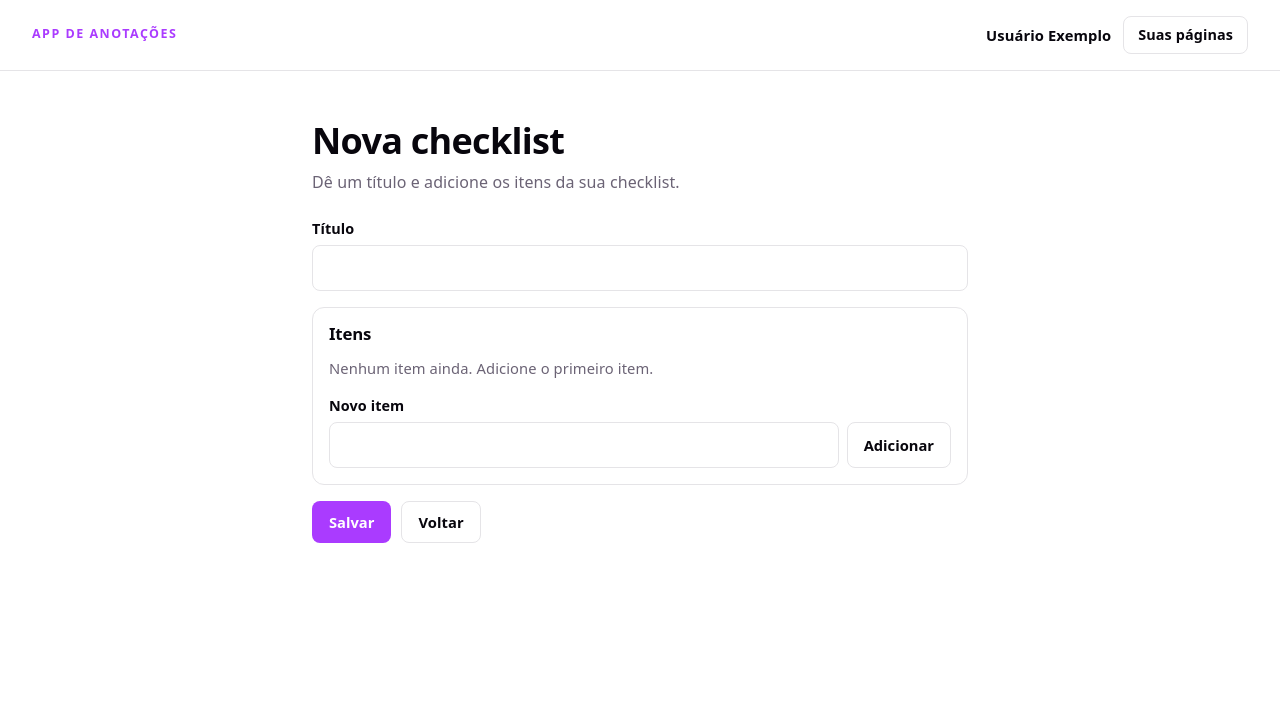
it: Checklists com itens editáveis › cria uma checklist válida com POST e abre a checklist salva
Type "Viagem" into the field labelled "Título" at (640, 268), box [312,245,968,291]
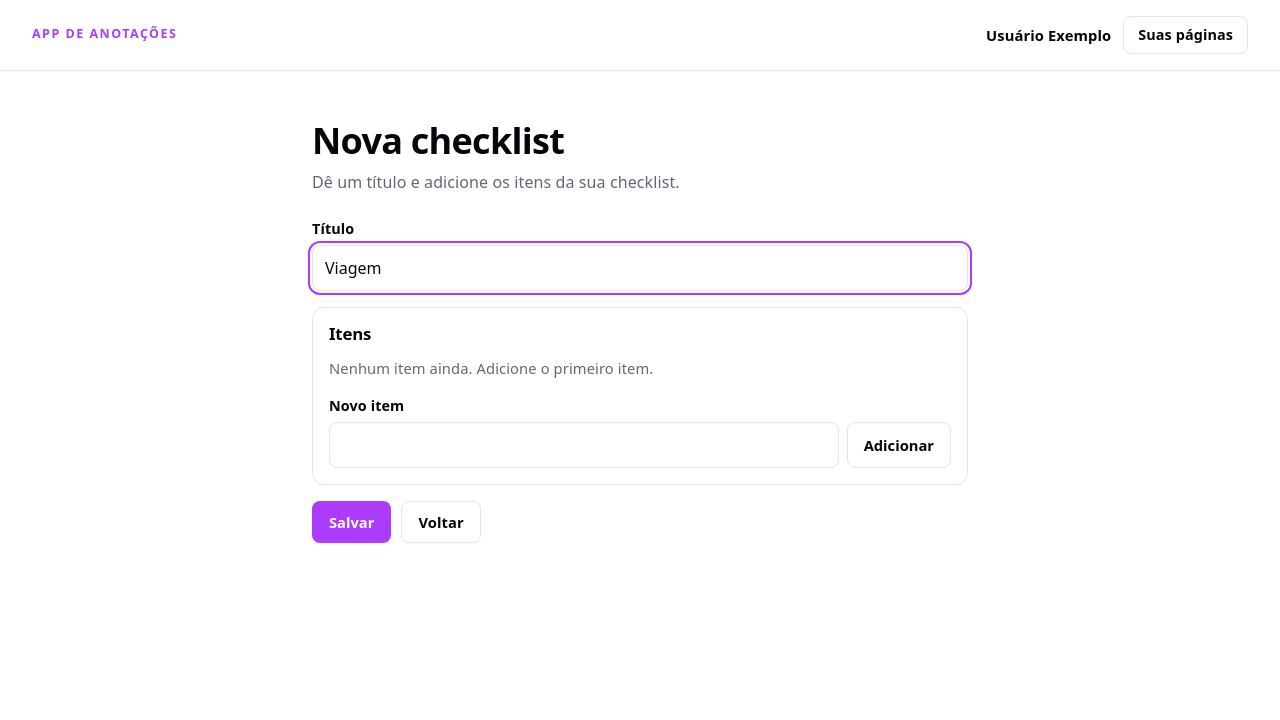
Type "Passaporte" into the field labelled "Novo item" at (584, 445), box [329,422,839,468]
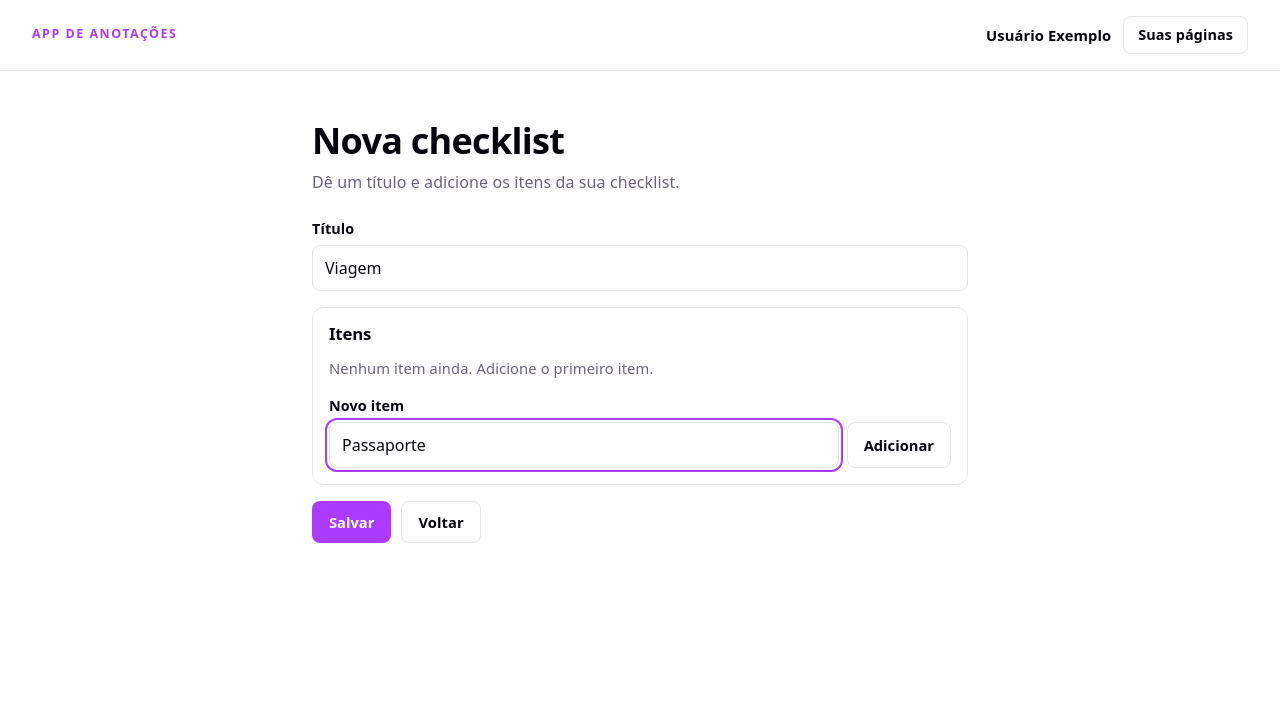
Click the button "Adicionar" at (899, 445), box [847,422,951,468]
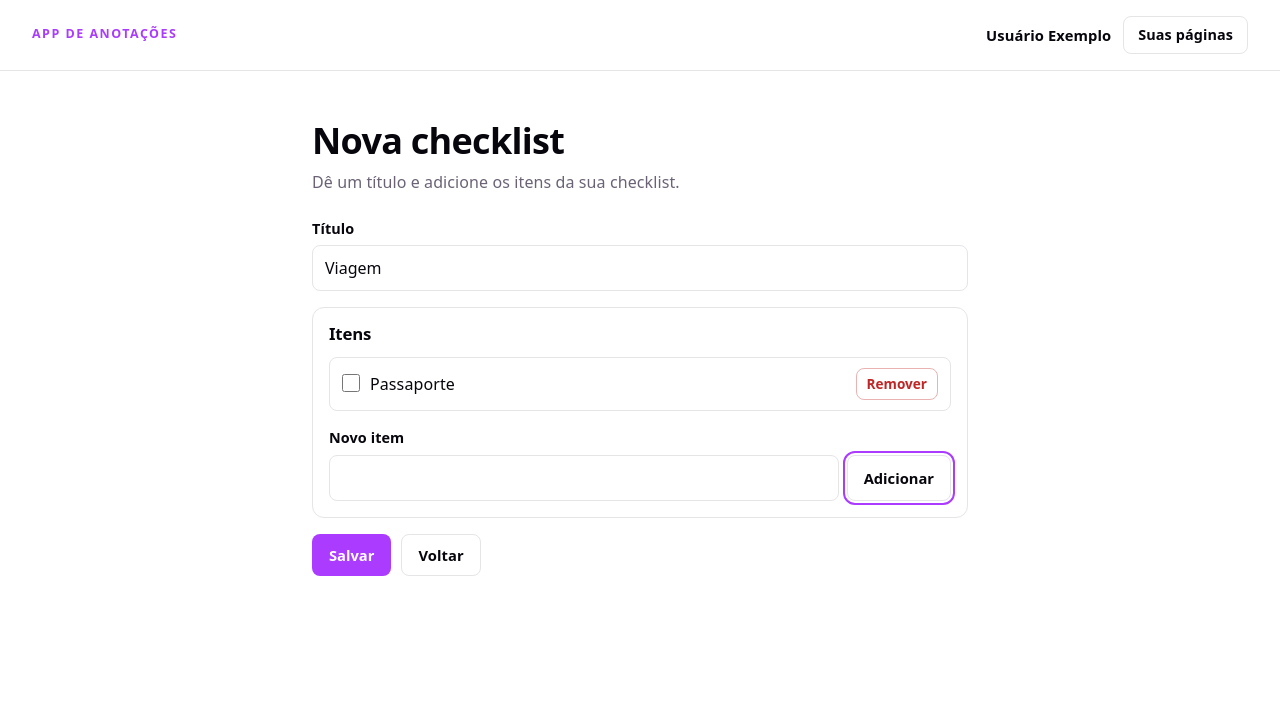
Type "Hotel" into the field labelled "Novo item" at (584, 478), box [329,455,839,501]
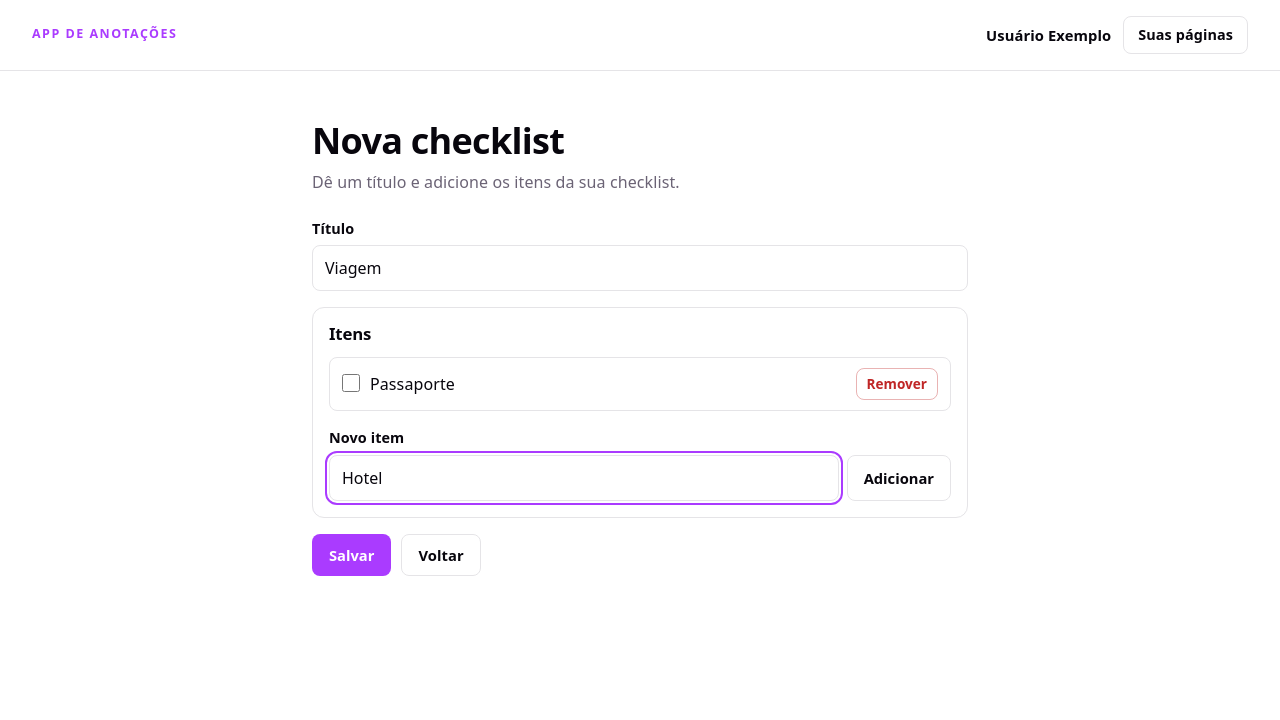
Click the button "Adicionar" at (899, 478), box [847,455,951,501]
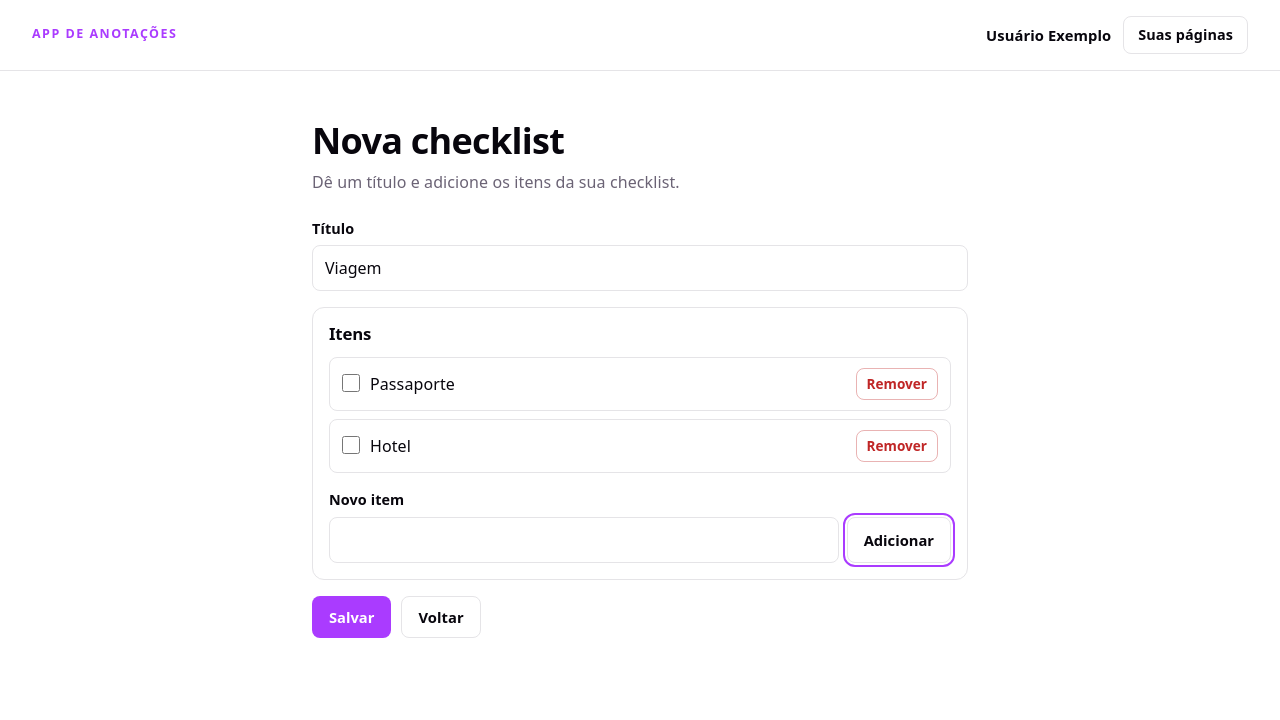
Click the button "Salvar" at (352, 617), box [312,596,391,638]
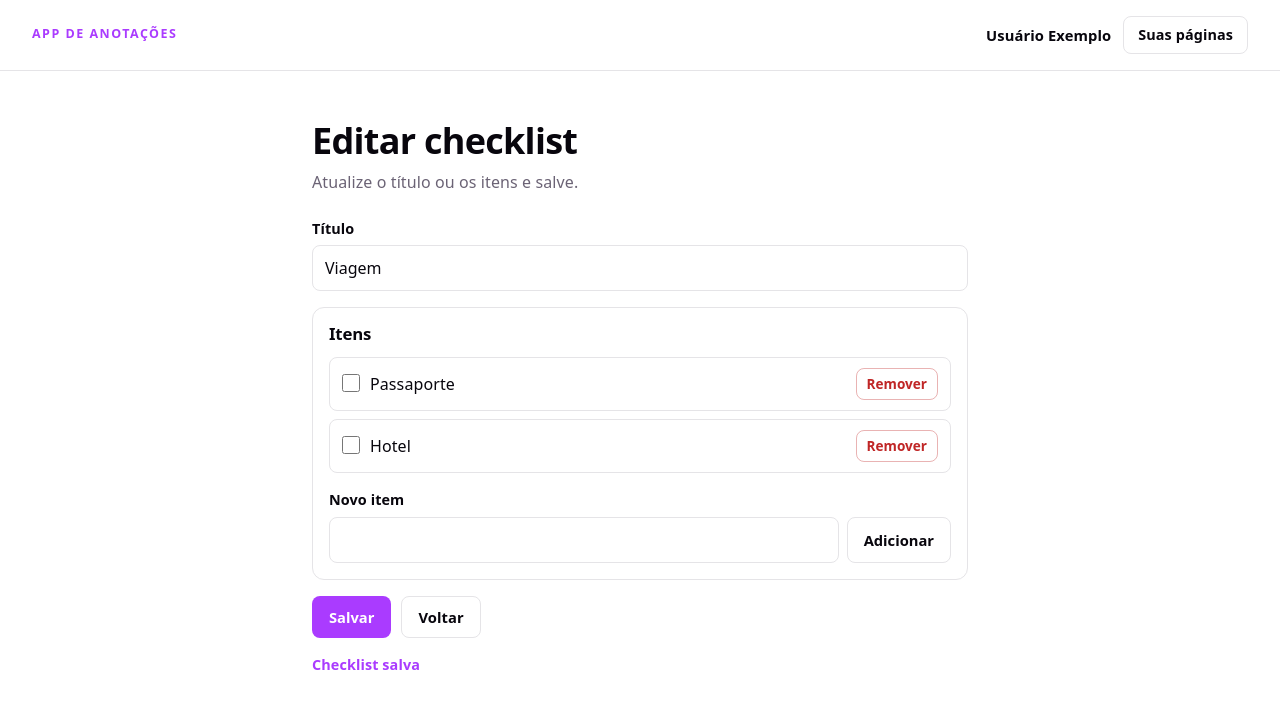
Expected: the checkbox labelled "Passaporte" is shown, [342,374,360,392]
Expected: the checkbox labelled "Hotel" is shown, [342,436,360,454]
Expected: the heading "Editar checklist" is shown, [312,116,577,165]
